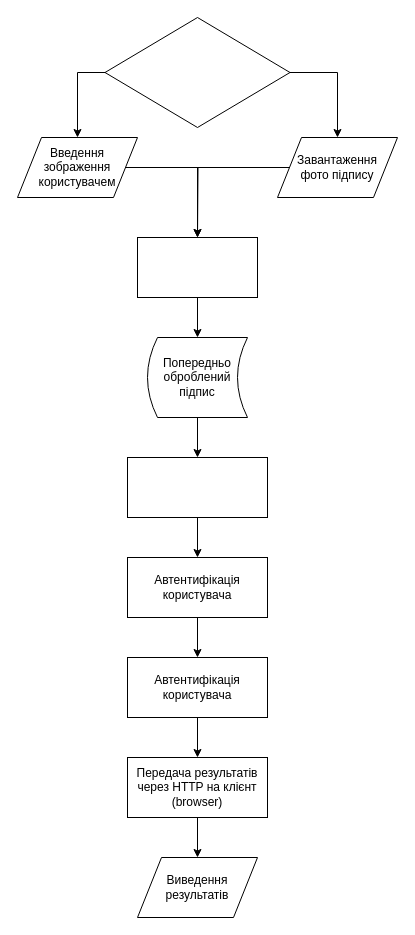
The diagram is 415 pixels wide and 935 high, and some of its shapes have lost their labels. Here are the shapes that lost their labels. From the top down, the box of each, then its label:
(104, 16, 290, 128): Введення підпису для автентифікації в систему
(136, 236, 258, 298): Передача файлу через HTTP на сервер
(126, 456, 268, 518): Класифікація підпису за допомогою згорткових нейронних мереж
